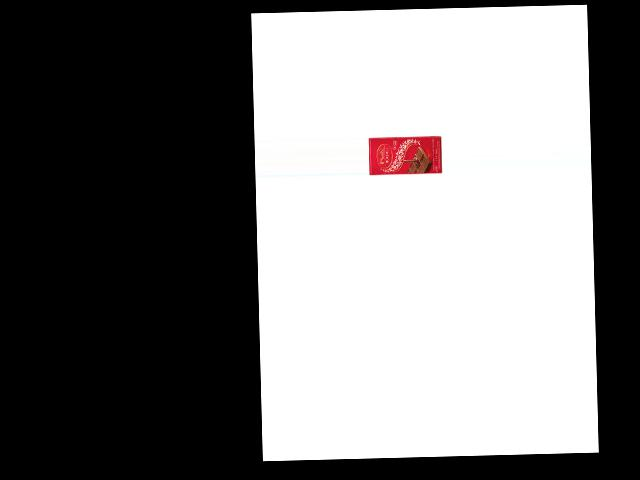chocolate: (368, 134, 441, 179)
